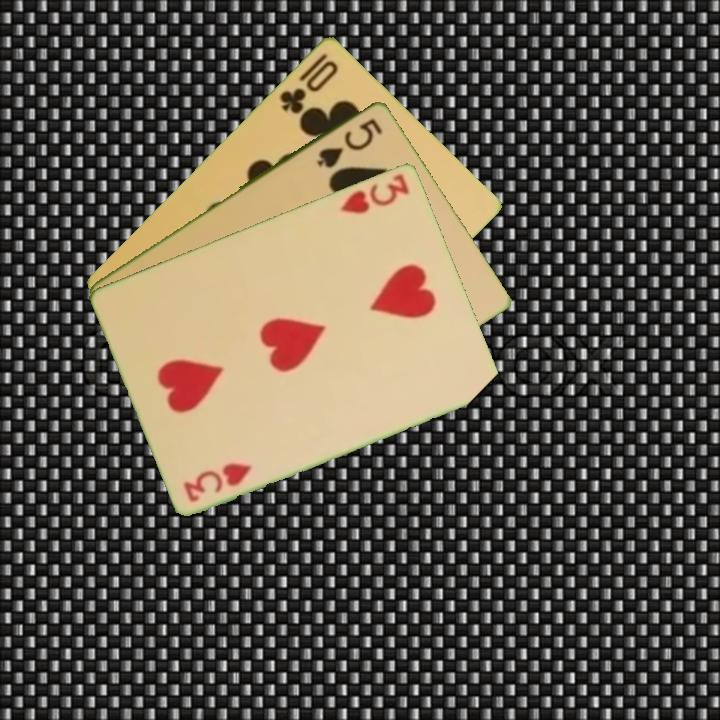10c: (275, 49, 341, 117)
3h: (180, 458, 255, 505), (337, 170, 412, 216)
5s: (313, 114, 386, 171)
